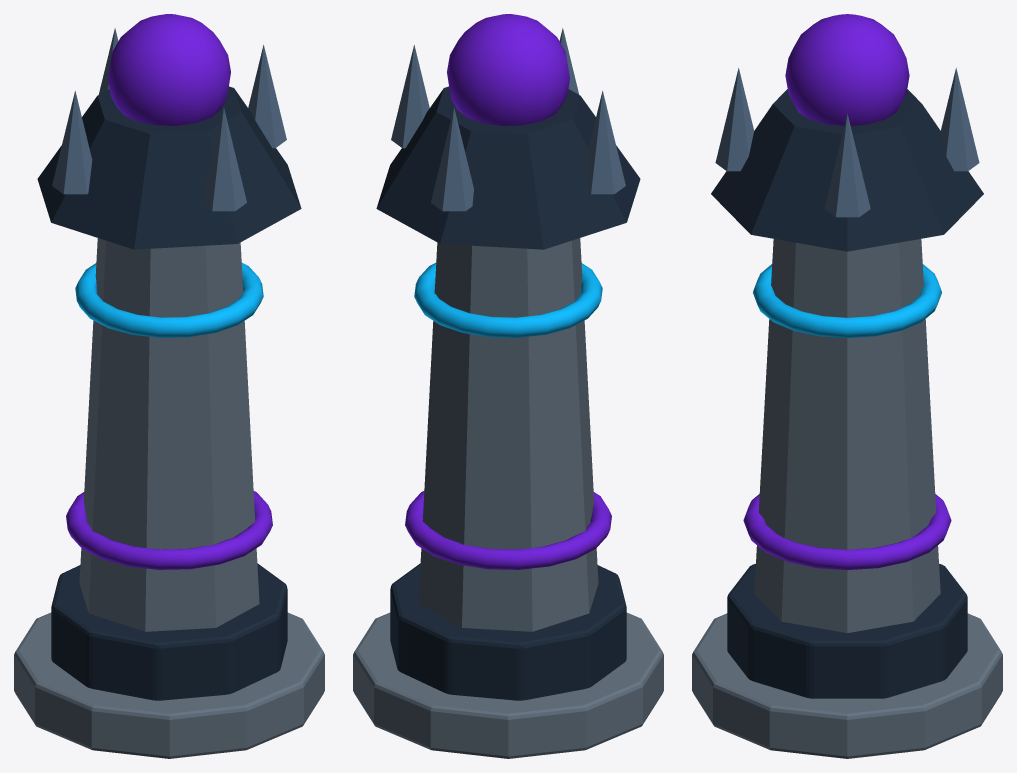
File: necrotic_combat_pillar.obj
3 views of the same model, side by side, from view 1: azimuth 30°, elevation 25°; view 2: azimuth 150°, elevation 25°; view 3: azimuth 270°, elevation 25° (orthographic).
Visible parts, largest first — view 1: arpg_pillar_shaft_M_stone, arpg_pillar_crown_M_gunmetal, arpg_pillar_foot_M_stone, arpg_pillar_plinth_M_gunmetal, arpg_pillar_orb_M_purple, arpg_pillar_rune_low_M_purple, arpg_pillar_rune_high_M_cyan, arpg_pillar_spike_1_M_steel, arpg_pillar_spike_0_M_steel, arpg_pillar_spike_2_M_steel; view 2: arpg_pillar_shaft_M_stone, arpg_pillar_crown_M_gunmetal, arpg_pillar_foot_M_stone, arpg_pillar_plinth_M_gunmetal, arpg_pillar_orb_M_purple, arpg_pillar_rune_low_M_purple, arpg_pillar_rune_high_M_cyan, arpg_pillar_spike_3_M_steel, arpg_pillar_spike_0_M_steel, arpg_pillar_spike_2_M_steel; view 3: arpg_pillar_shaft_M_stone, arpg_pillar_crown_M_gunmetal, arpg_pillar_foot_M_stone, arpg_pillar_plinth_M_gunmetal, arpg_pillar_orb_M_purple, arpg_pillar_rune_low_M_purple, arpg_pillar_rune_high_M_cyan, arpg_pillar_spike_2_M_steel, arpg_pillar_spike_1_M_steel, arpg_pillar_spike_3_M_steel.
Part boxes in pixels (bbox=[...]): arpg_pillar_shaft_M_stone: bbox=[79, 238, 259, 631]; arpg_pillar_crown_M_gunmetal: bbox=[37, 86, 301, 249]; arpg_pillar_foot_M_stone: bbox=[14, 612, 324, 758]; arpg_pillar_plinth_M_gunmetal: bbox=[51, 563, 287, 700]; arpg_pillar_orb_M_purple: bbox=[108, 14, 230, 125]; arpg_pillar_rune_low_M_purple: bbox=[66, 491, 272, 569]; arpg_pillar_rune_high_M_cyan: bbox=[75, 262, 263, 337]; arpg_pillar_spike_1_M_steel: bbox=[204, 107, 246, 211]; arpg_pillar_spike_0_M_steel: bbox=[52, 91, 92, 194]; arpg_pillar_spike_2_M_steel: bbox=[248, 45, 286, 148]; arpg_pillar_shaft_M_stone: bbox=[418, 238, 598, 631]; arpg_pillar_crown_M_gunmetal: bbox=[376, 86, 640, 249]; arpg_pillar_foot_M_stone: bbox=[353, 612, 663, 758]; arpg_pillar_plinth_M_gunmetal: bbox=[390, 563, 626, 700]; arpg_pillar_orb_M_purple: bbox=[447, 14, 569, 125]; arpg_pillar_rune_low_M_purple: bbox=[405, 491, 611, 569]; arpg_pillar_rune_high_M_cyan: bbox=[414, 262, 602, 337]; arpg_pillar_spike_3_M_steel: bbox=[431, 107, 473, 211]; arpg_pillar_spike_0_M_steel: bbox=[585, 91, 625, 194]; arpg_pillar_spike_2_M_steel: bbox=[391, 45, 429, 148]; arpg_pillar_shaft_M_stone: bbox=[754, 239, 940, 632]; arpg_pillar_crown_M_gunmetal: bbox=[711, 89, 983, 251]; arpg_pillar_foot_M_stone: bbox=[692, 613, 1002, 758]; arpg_pillar_plinth_M_gunmetal: bbox=[727, 563, 967, 698]; arpg_pillar_orb_M_purple: bbox=[785, 14, 909, 125]; arpg_pillar_rune_low_M_purple: bbox=[743, 494, 951, 570]; arpg_pillar_rune_high_M_cyan: bbox=[753, 264, 941, 337]; arpg_pillar_spike_2_M_steel: bbox=[824, 113, 870, 217]; arpg_pillar_spike_1_M_steel: bbox=[715, 68, 753, 171]; arpg_pillar_spike_3_M_steel: bbox=[941, 68, 979, 171].
Bounding box in the file's own units: 1 × 2.4 × 1.
